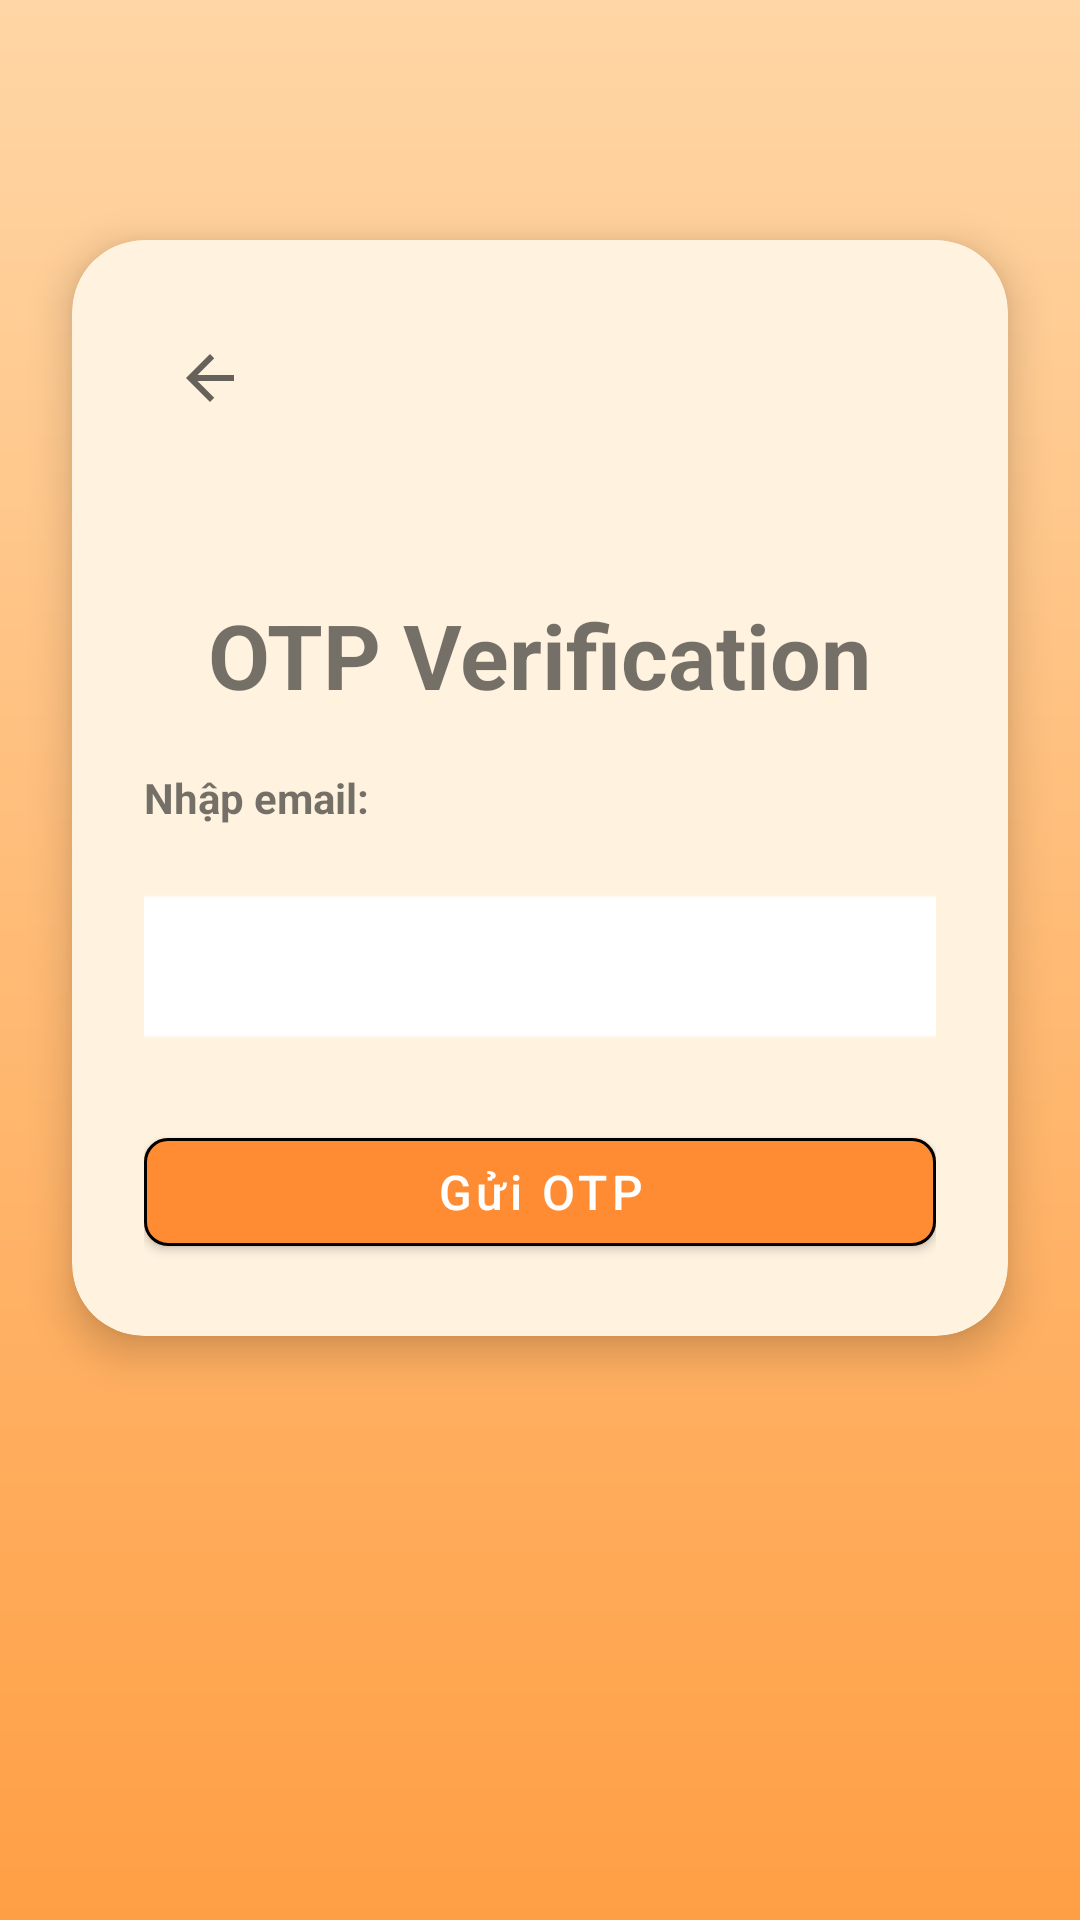

Screen size 1080 x 1920. Icon name, then its box in pixels as (x1, y1, x2, y2):
arrow back: (186, 354, 234, 402)
